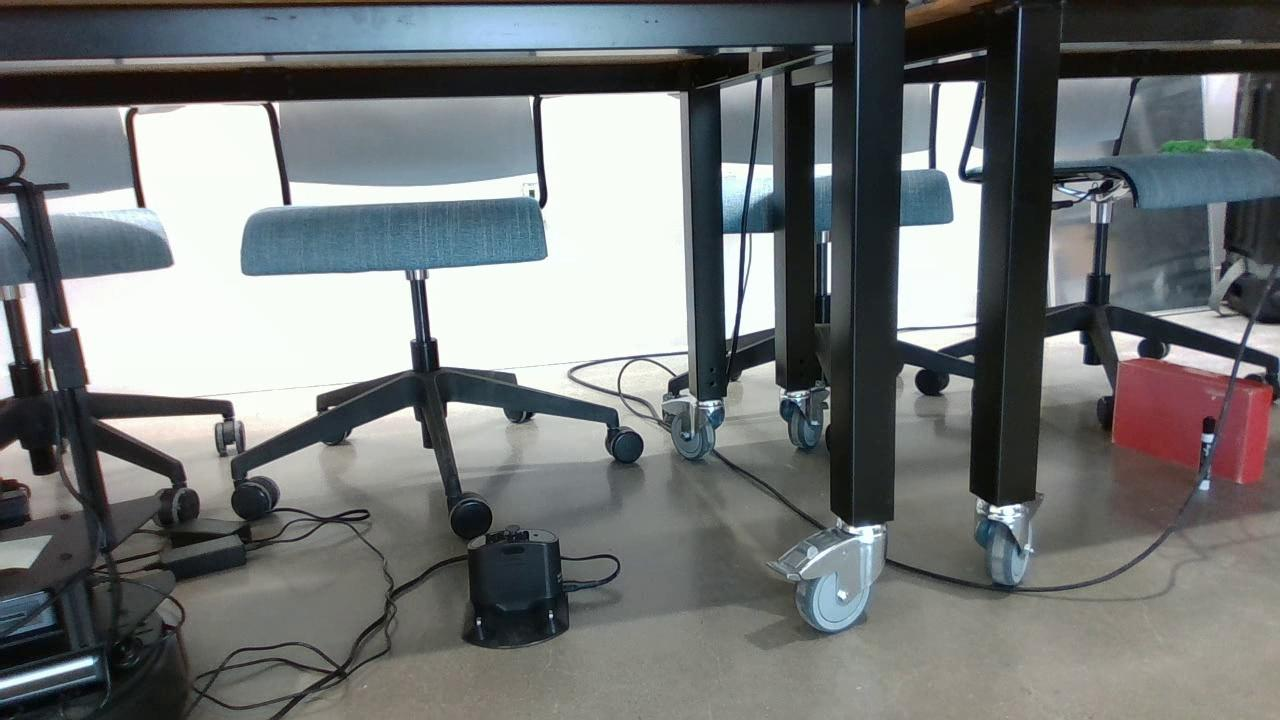grasshopper: (1159, 139, 1209, 152), (1208, 138, 1255, 149)
